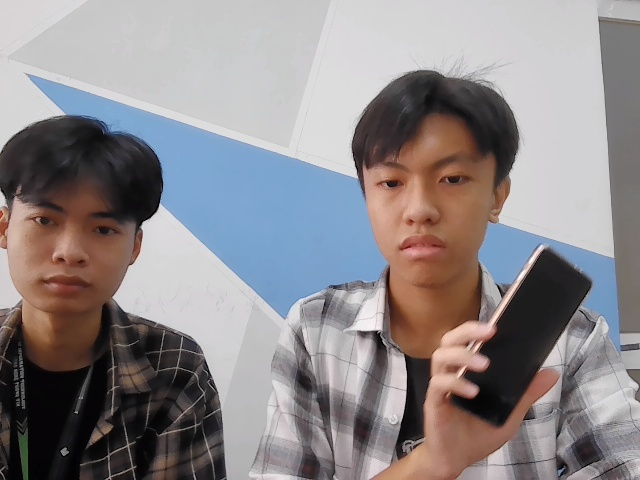human: (345, 68, 519, 290), (1, 116, 166, 318)
phone: (460, 230, 598, 433)
